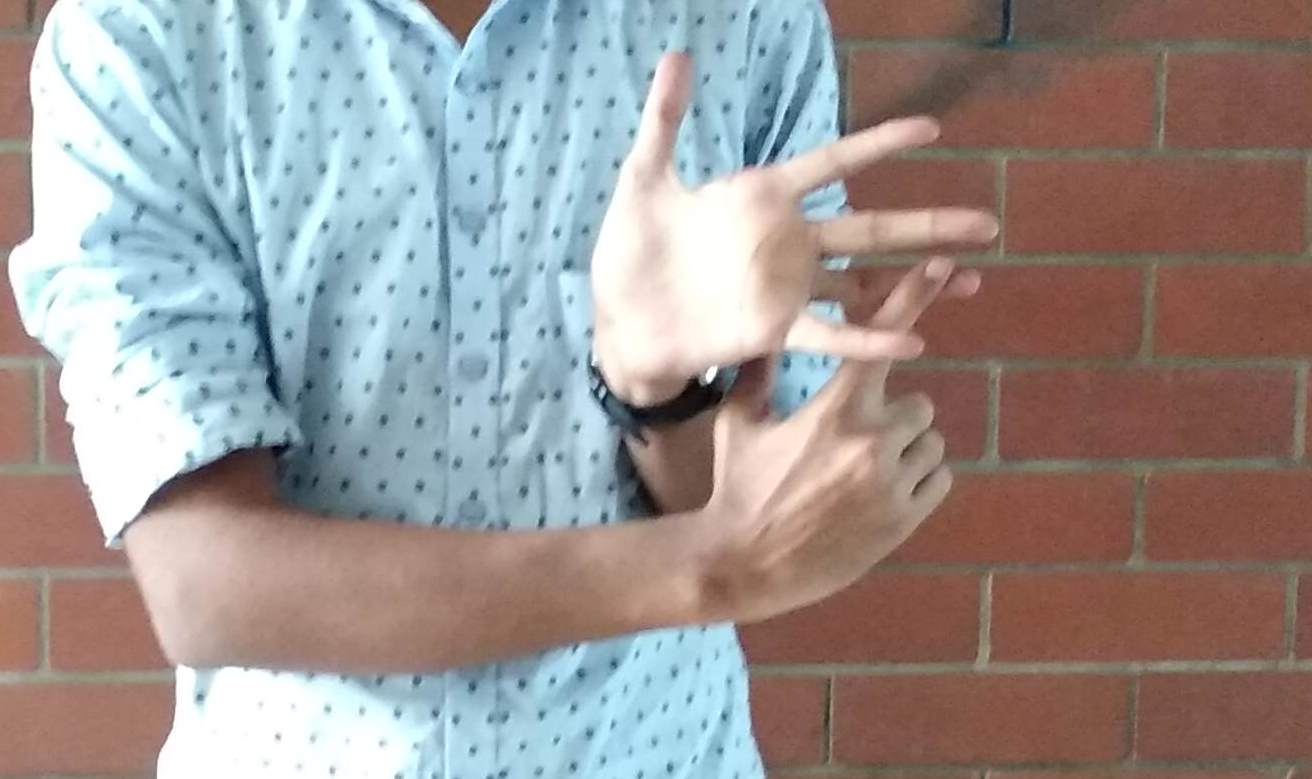e: (627, 114, 1027, 485)
